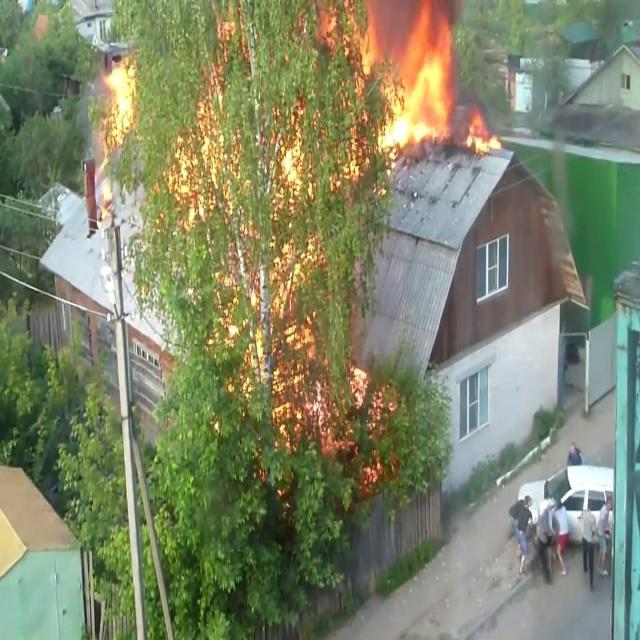Fire: (331, 2, 456, 164), (98, 45, 140, 157), (465, 108, 503, 158)
